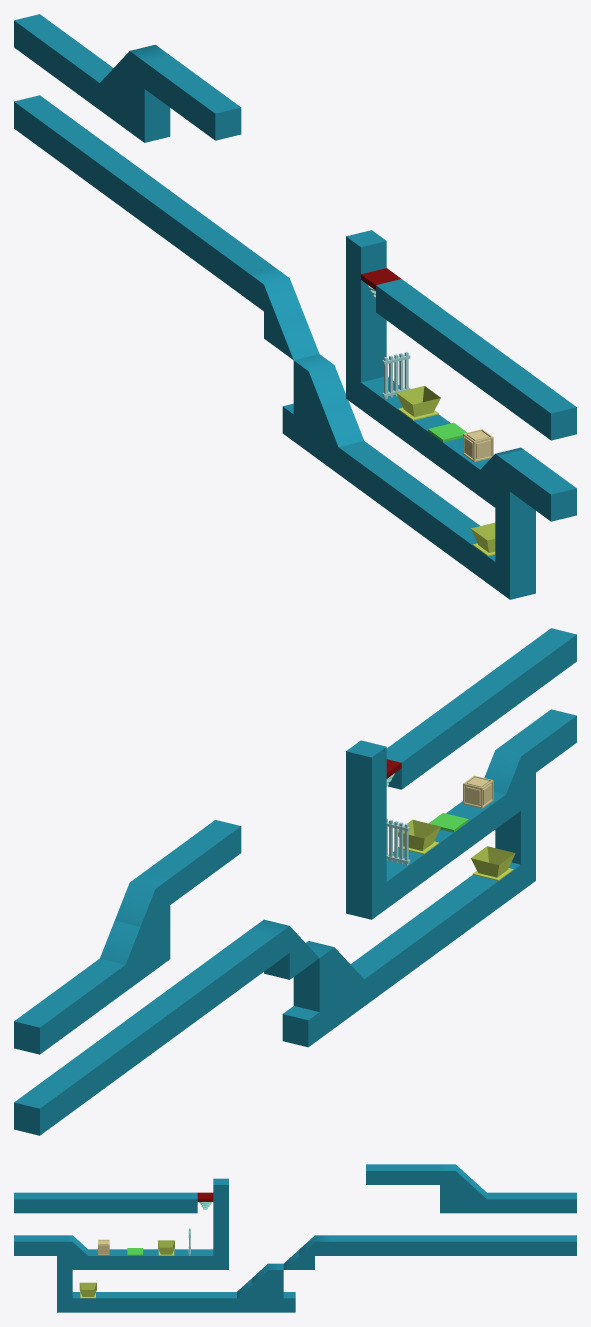
Rendered from TestLevel_Flat.obj.
3 views of the same model, one above another, from view 1: azimuth 30°, elevation 25°; view 2: azimuth 150°, elevation 25°; view 3: azimuth 270°, elevation 25° (orthographic). The views are drawn at different scales.
Visible parts, largest first — view 1: 45_WalkWay053, 45_WalkWay063, 45_WalkWay059, 2x2_Ramp005, 45_WalkWay056, 45_WalkWay054, 45_WalkWay050, 45_WalkWay051, 45_WalkWay060, 45_WalkWay052, 45_WalkWay058, 45_WalkWay048 (+13 smaller); view 2: 45_WalkWay053, 45_WalkWay060, 45_WalkWay052, 2x2_Ramp006, 45_WalkWay063, 45_WalkWay057, 45_WalkWay050, 45_WalkWay058, 45_WalkWay054, 45_WalkWay059, 45_WalkWay051, 45_WalkWay046 (+15 smaller); view 3: 45_WalkWay057, 45_WalkWay058, 45_WalkWay059, 45_WalkWay060, 45_WalkWay063, 45_WalkWay050, 45_WalkWay051, 45_WalkWay052, 45_WalkWay054, 45_WalkWay047, 45_WalkWay046, 2x2_Ramp006 (+13 smaller).
Part boxes in pixels (x1=…): 45_WalkWay053: x1=346, y1=230, x2=386, y2=382; 45_WalkWay063: x1=144, y1=55, x2=241, y2=140; 45_WalkWay059: x1=484, y1=358, x2=576, y2=440; 2x2_Ramp005: x1=293, y1=354, x2=364, y2=447; 45_WalkWay056: x1=495, y1=481, x2=535, y2=599; 45_WalkWay054: x1=349, y1=449, x2=442, y2=531; 45_WalkWay050: x1=148, y1=193, x2=240, y2=275; 45_WalkWay051: x1=81, y1=144, x2=173, y2=226; 45_WalkWay060: x1=14, y1=14, x2=106, y2=95; 45_WalkWay052: x1=14, y1=95, x2=106, y2=177; 45_WalkWay058: x1=417, y1=309, x2=509, y2=390; 45_WalkWay048: x1=498, y1=449, x2=576, y2=521; 45_WalkWay053: x1=346, y1=740, x2=386, y2=892; 45_WalkWay060: x1=14, y1=972, x2=106, y2=1054; 45_WalkWay052: x1=14, y1=1053, x2=106, y2=1135; 2x2_Ramp006: x1=100, y1=871, x2=170, y2=964; 45_WalkWay063: x1=145, y1=820, x2=241, y2=904; 45_WalkWay057: x1=417, y1=862, x2=520, y2=948; 45_WalkWay050: x1=148, y1=955, x2=241, y2=1037; 45_WalkWay058: x1=417, y1=677, x2=509, y2=759; 45_WalkWay054: x1=350, y1=916, x2=442, y2=997; 45_WalkWay059: x1=484, y1=628, x2=576, y2=710; 45_WalkWay051: x1=81, y1=1004, x2=173, y2=1086; 45_WalkWay046: x1=346, y1=839, x2=442, y2=919; 45_WalkWay057: x1=72, y1=1292, x2=154, y2=1312; 45_WalkWay058: x1=84, y1=1192, x2=154, y2=1213; 45_WalkWay059: x1=14, y1=1192, x2=84, y2=1213; 45_WalkWay060: x1=506, y1=1192, x2=576, y2=1213; 45_WalkWay063: x1=366, y1=1164, x2=439, y2=1184; 45_WalkWay050: x1=366, y1=1235, x2=436, y2=1255; 45_WalkWay051: x1=436, y1=1235, x2=506, y2=1255; 45_WalkWay052: x1=506, y1=1235, x2=576, y2=1255; 45_WalkWay054: x1=154, y1=1292, x2=224, y2=1312; 45_WalkWay047: x1=72, y1=1249, x2=154, y2=1269; 45_WalkWay046: x1=154, y1=1249, x2=228, y2=1269; 2x2_Ramp006: x1=440, y1=1164, x2=486, y2=1199.
Bounding box in the file's own units: 1.1 × 10 × 36.
